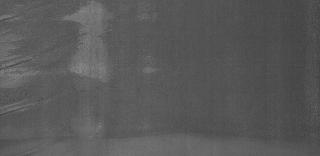scratches: (0, 98, 58, 118), (0, 55, 38, 75), (1, 8, 32, 28)
